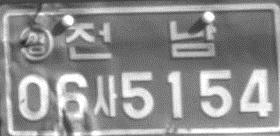0: (17, 74, 51, 122)
1: (158, 70, 192, 119)
4: (238, 69, 273, 117)
5: (120, 71, 155, 120), (198, 69, 233, 118)
6: (55, 72, 88, 119)
사: (91, 75, 118, 119)
영: (17, 25, 52, 62)
전남_D: (63, 19, 217, 61)
